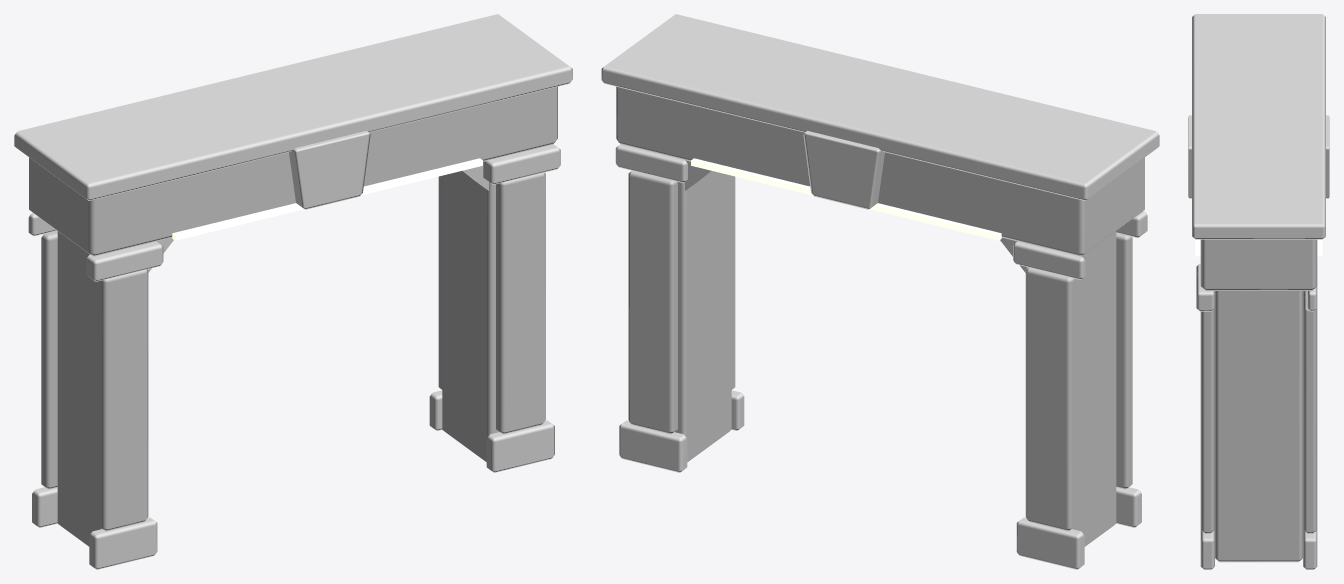
File: arch_400x350.glb
3 views of the same model, side by side, from view 1: azimuth 30°, elevation 25°; view 2: azimuth 150°, elevation 25°; view 3: azimuth 270°, elevation 25° (orthographic). The views are drawn at different scales.
Parts seen in each view (by area): view 1: Arch; view 2: Arch; view 3: Arch.
Part boxes in pixels (bbox=[...]): Arch: bbox=[14, 14, 572, 569]; Arch: bbox=[601, 14, 1159, 569]; Arch: bbox=[1188, 14, 1329, 569].
Size of what is drawn, in the model's own units: 5.7 by 4.4 by 1.6.
